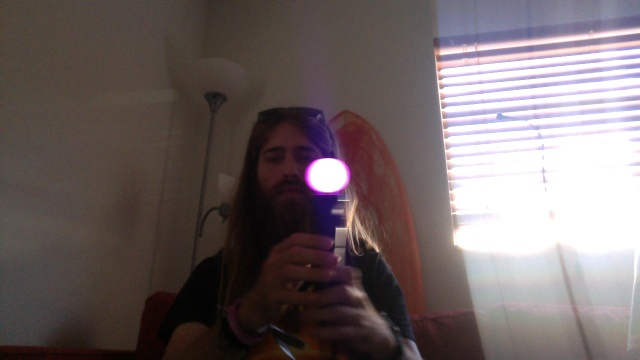wand: (307, 160, 349, 193)
